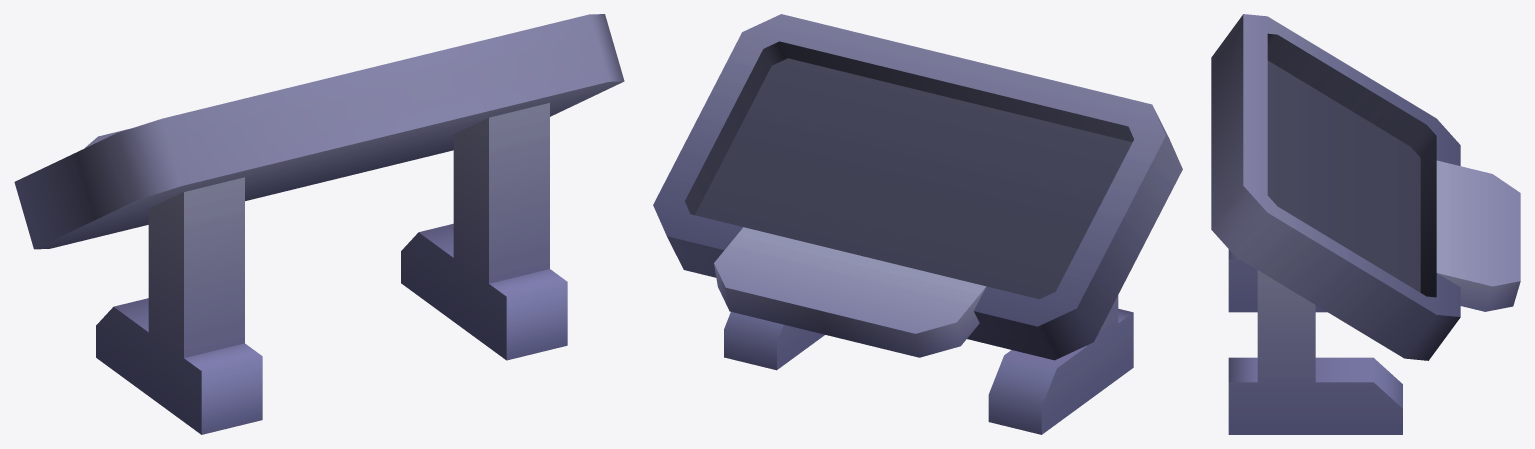
File: kenney-conveyor-screen-panel-flat.glb
3 views of the same model, side by side, from view 1: azimuth 30°, elevation 25°; view 2: azimuth 150°, elevation 25°; view 3: azimuth 270°, elevation 25° (orthographic). The views are drawn at different scales.
Visible parts, largest first — view 1: screen-panel-flat; view 2: screen-panel-flat; view 3: screen-panel-flat.
Part boxes in pixels (x1,y1,x2,y2): screen-panel-flat: [14, 14, 624, 434]; screen-panel-flat: [653, 14, 1182, 434]; screen-panel-flat: [1211, 14, 1520, 434].
Bounding box in the file's own units: 1.2 × 0.7453 × 0.7998.
Materials: 1 (1 with a texture image).
